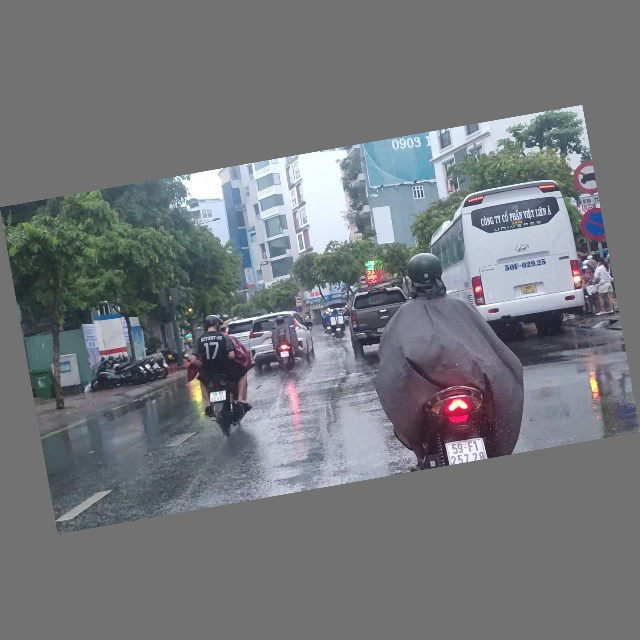P.106a*Xe tai: (571, 160, 598, 197), (358, 276, 368, 286), (294, 296, 302, 304)
P.131a: (579, 206, 606, 244), (297, 306, 304, 314)
